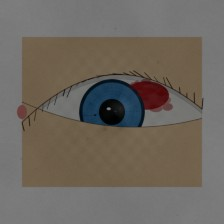hemorrhage_spot: (116, 71, 177, 120)
